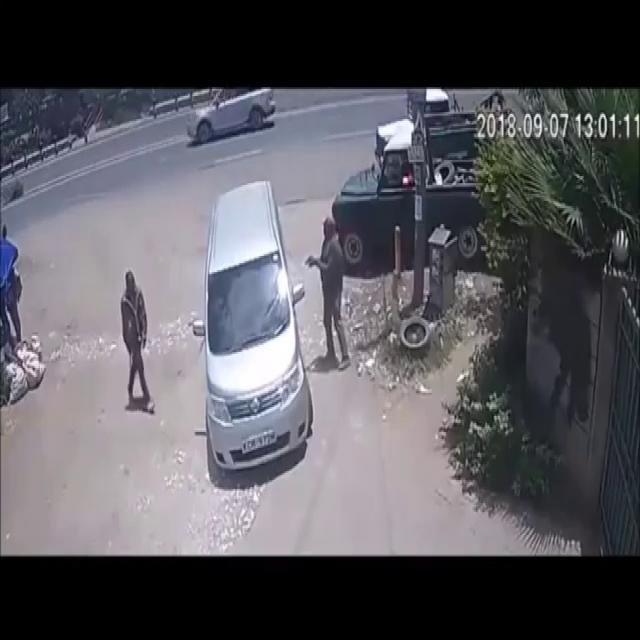weapon: (303, 248, 313, 270)
